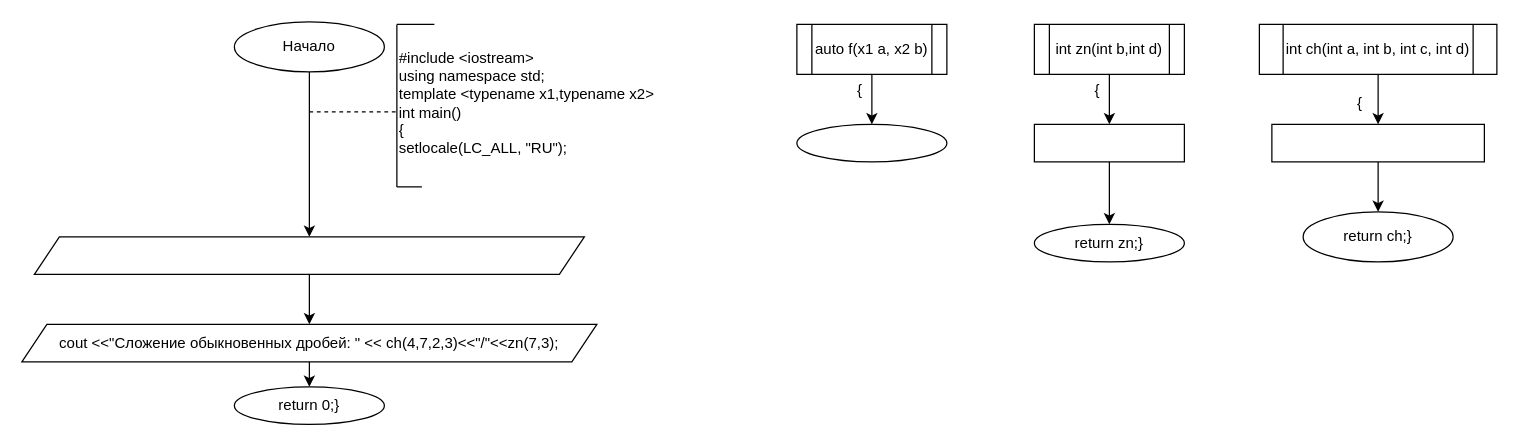
Some shapes in this 1519 by 446 pixel diagram are drawn without their labels. Each missing label, with the centre of its shape:
cout <<"Сложение десятичных дробей: "<< f(0.15, 0.1)<<endl;: the point at 308,255
int ch = (a * d) + (b * c);: the point at 1377,142
int zn = b * d;: the point at 1108,142
return (a + b);}: the point at 871,142
